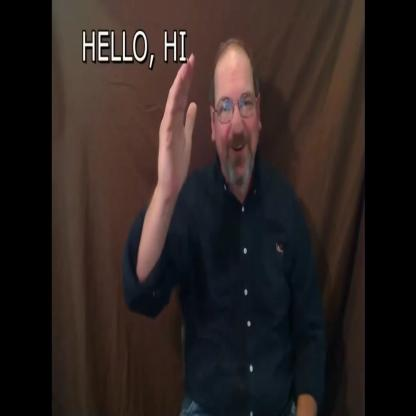Hello: (131, 0, 262, 215)
